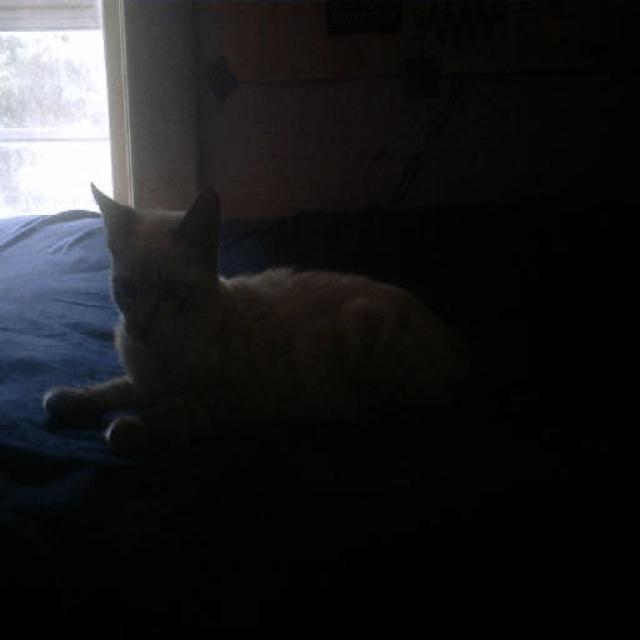Cat: (40, 162, 561, 466)
